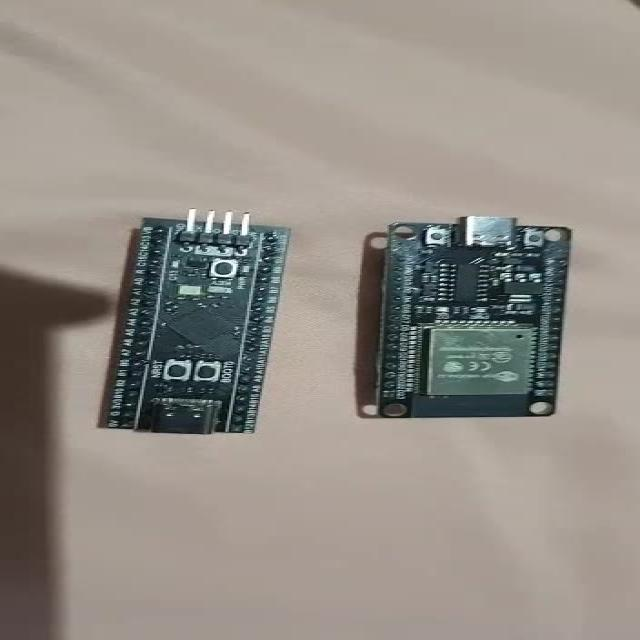ESP32: (375, 217, 571, 417)
STM32: (100, 210, 290, 435)
